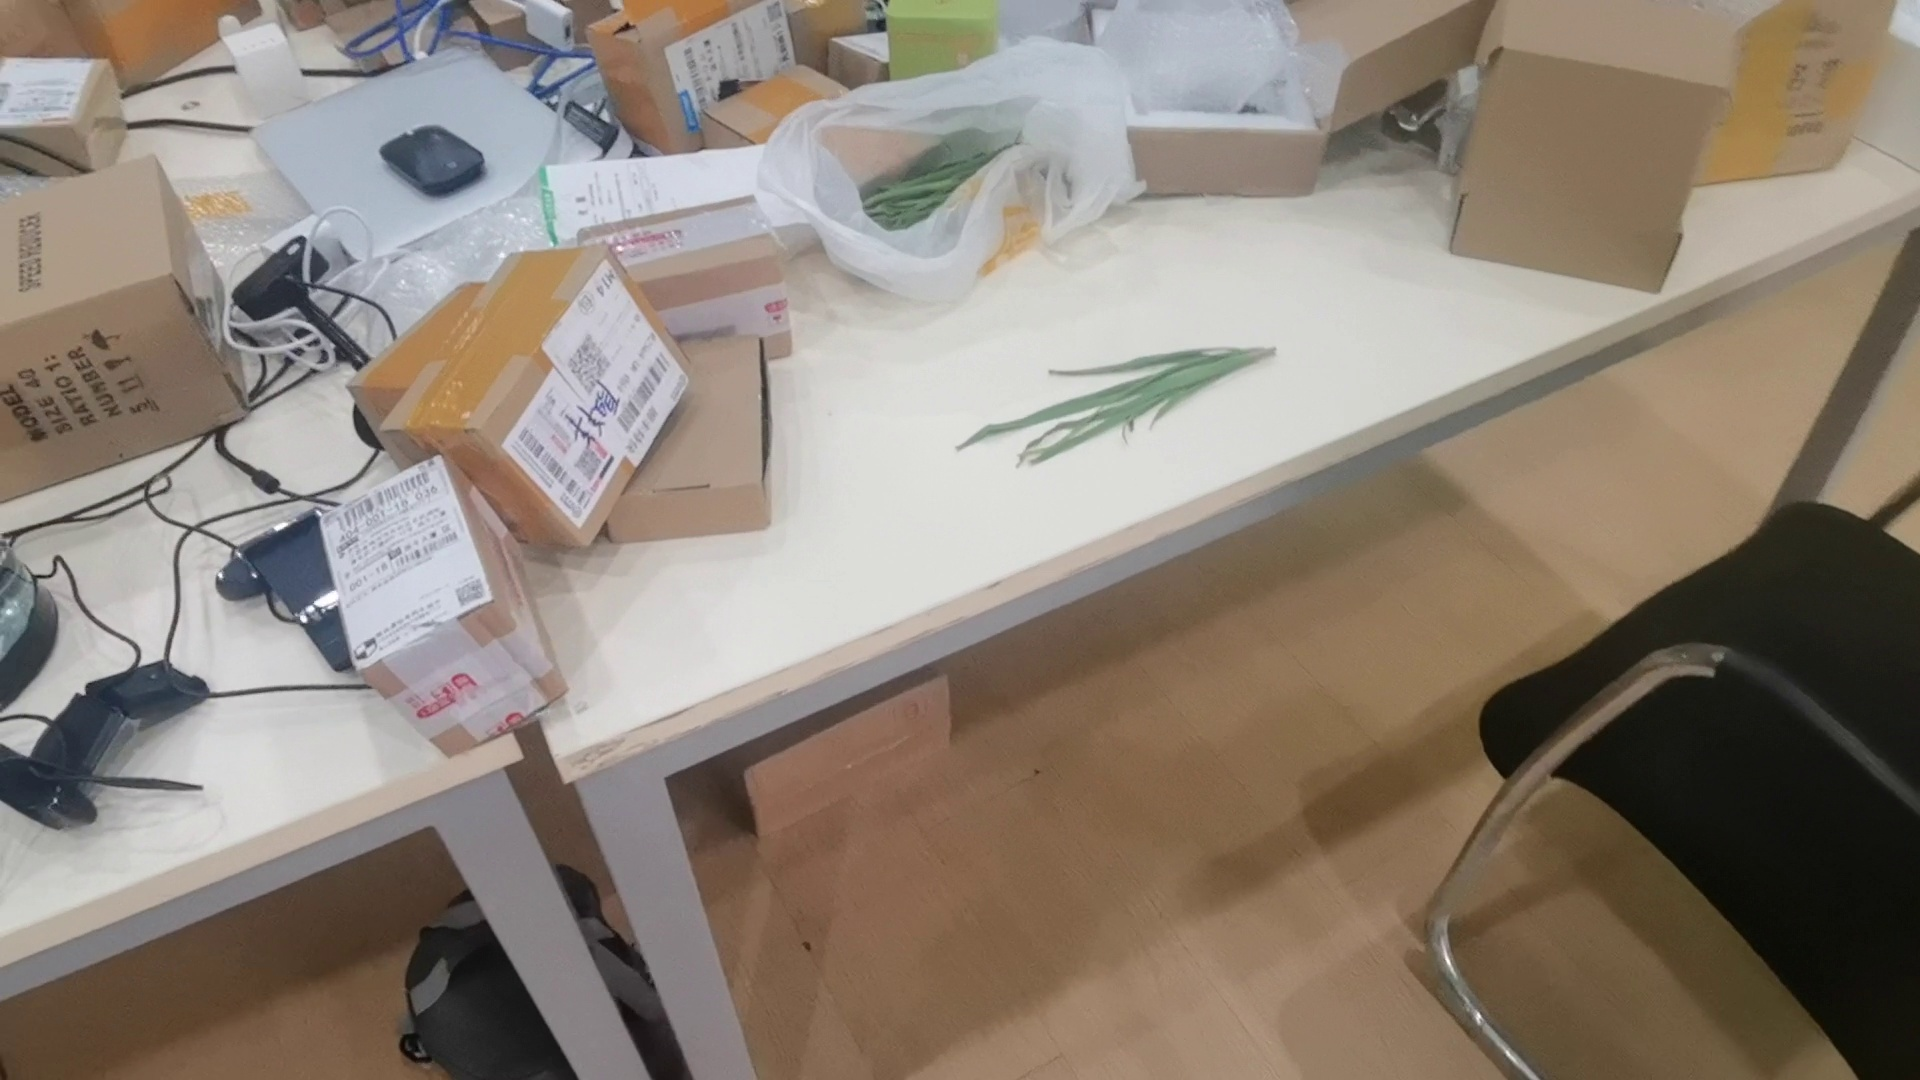chives: (951, 338, 1284, 469)
